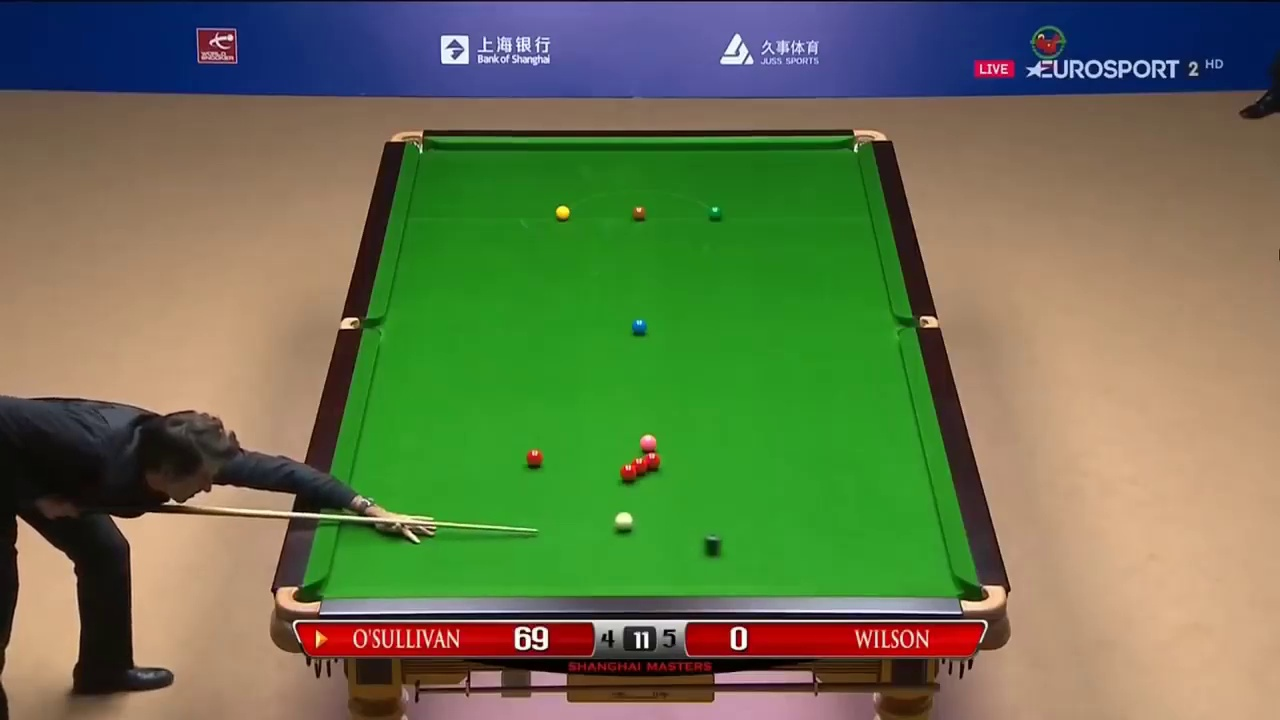ball: (612, 511, 634, 535), (524, 448, 541, 467), (631, 206, 650, 221), (631, 317, 648, 333), (704, 206, 722, 221), (620, 464, 637, 479), (554, 205, 570, 219)
